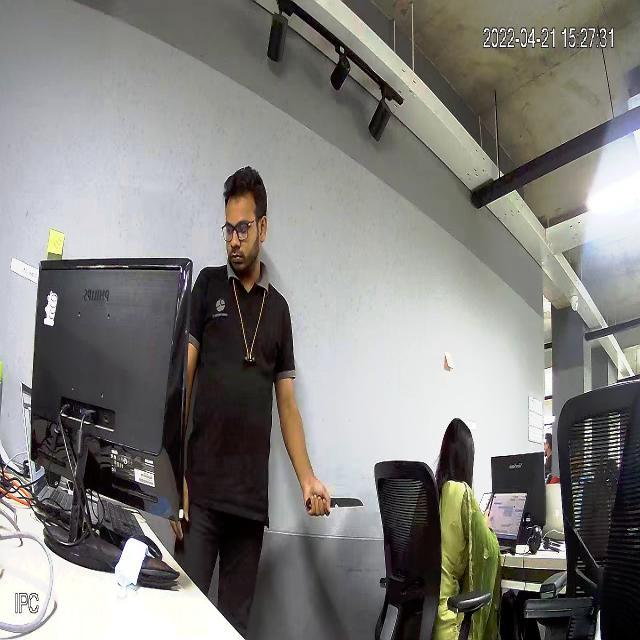Knife: (304, 487, 372, 521)
